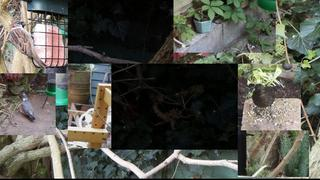blackbird: (252, 84, 281, 120)
sparrow: (9, 20, 48, 70)
wood pigeon: (21, 93, 36, 120)
